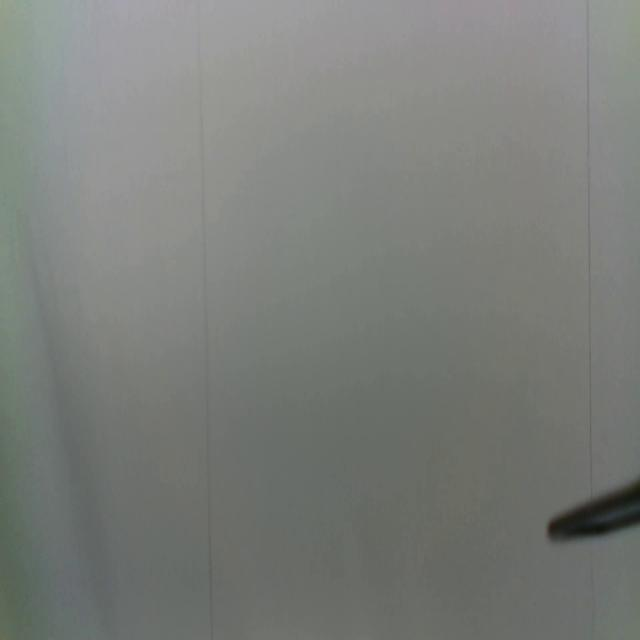crease: (195, 0, 215, 640), (585, 0, 595, 495), (587, 539, 598, 640)
